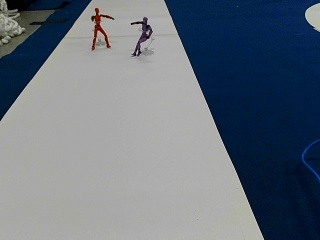pedestrian: (90, 7, 115, 50), (130, 17, 152, 55)
